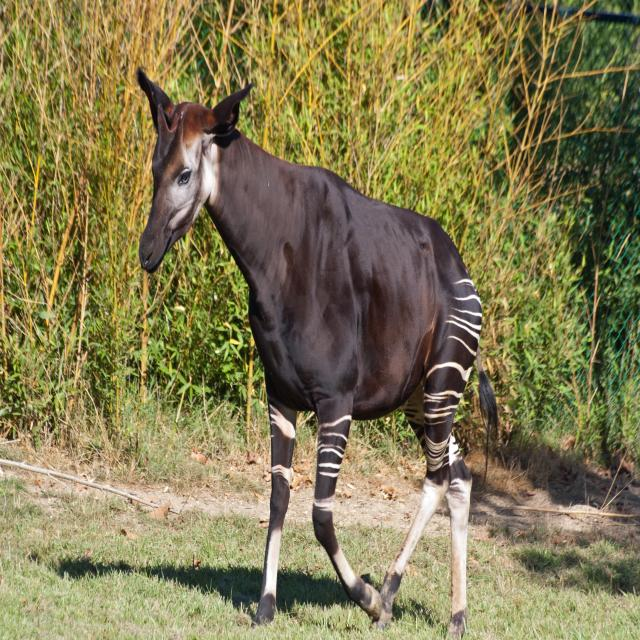Okapi: (137, 66, 484, 629)
